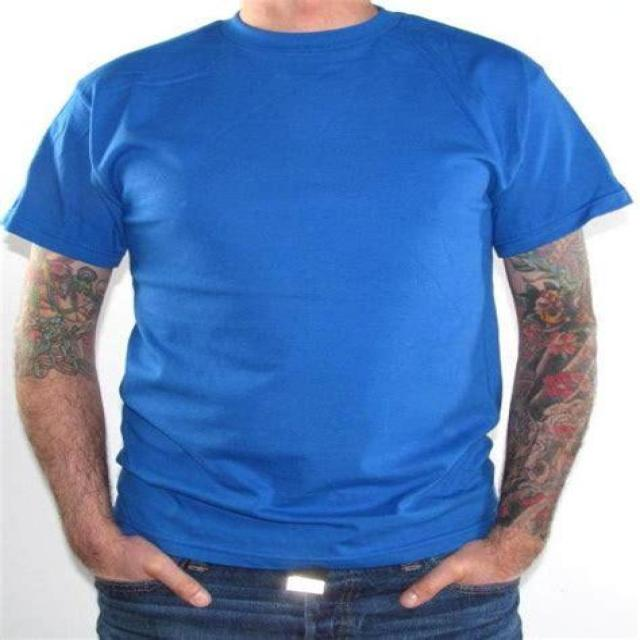Tshirt: (0, 11, 635, 570)
